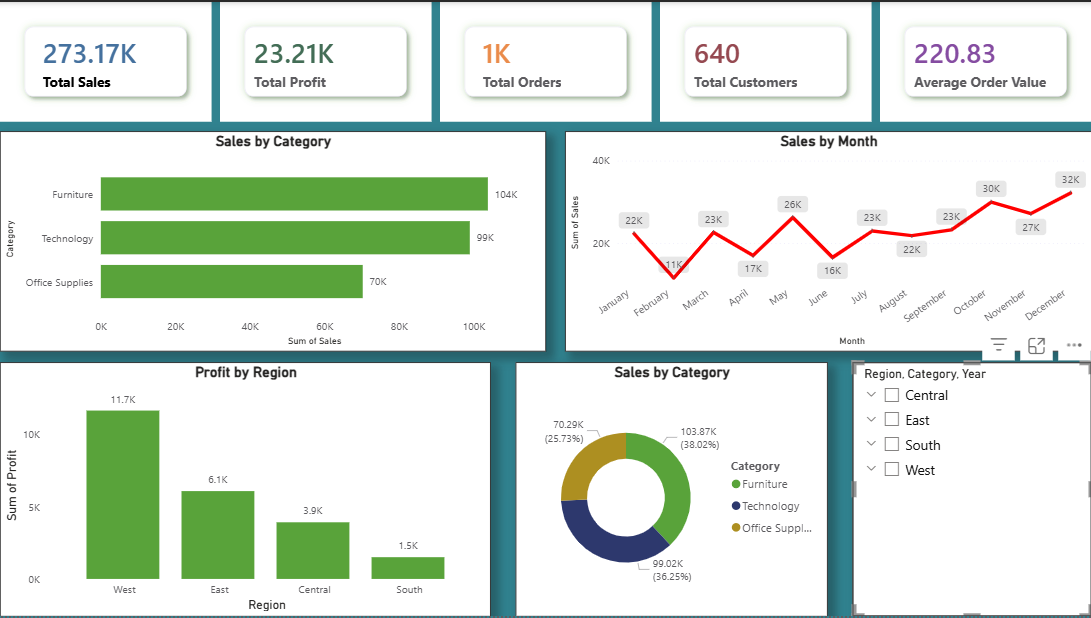

This screenshot's page, from the dashboard's own definition file:
{"tool":"powerbi","page":{"name":"Page 1","canvas":[1280,720],"ordinal":0},"visuals":[{"type":"cardVisual","fields":{"Data":["SuperStore.Total Sales"]},"box":[0,0,248.2,140.2],"z":0},{"type":"cardVisual","fields":{"Data":["SuperStore.Total Profit"]},"box":[257.9,0,248.2,140.2],"z":1000},{"type":"cardVisual","fields":{"Data":["SuperStore.Total Orders"]},"box":[515.8,0,248.2,140.2],"z":2000},{"type":"cardVisual","fields":{"Data":["SuperStore.Total Customers"]},"box":[773.6,0,248.2,140.2],"z":3000},{"type":"cardVisual","fields":{"Data":["SuperStore.Average Order Value"]},"box":[1031.5,0,248.2,140.2],"z":4000},{"type":"clusteredBarChart","title":"Sales by Category","fields":{"Category":["SuperStore.Category"],"Y":["Sum(SuperStore.Sales)"]},"box":[0,151.5,639.9,257.9],"z":5000},{"type":"lineChart","title":"Sales by Month","fields":{"Category":["SuperStore.Month"],"Y":["Sum(SuperStore.Sales)"]},"box":[662.4,151.5,617.3,257.9],"z":6000},{"type":"clusteredColumnChart","title":"Profit by Region","fields":{"Category":["SuperStore.Region"],"Y":["Sum(SuperStore.Profit)"]},"box":[0,422.3,575.4,298.2],"z":7000},{"type":"donutChart","title":"Sales by Category","fields":{"Category":["SuperStore.Category"],"Y":["Sum(SuperStore.Sales)"]},"box":[604.4,422.3,365.9,298.2],"z":8000},{"type":"slicer","fields":{"Values":["SuperStore.Region","SuperStore.Category","SuperStore.Year"]},"box":[999.3,422.3,280.4,298.2],"z":9000}]}

Visuals, with their boxes in screenshot pixels (x1, y1, x2, y2), scaled from the page's 1280x720 canvas onto the 1091x618 screenshot:
cardVisual - SuperStore.Total Sales: 0 0 212 120
cardVisual - SuperStore.Total Profit: 220 0 431 120
cardVisual - SuperStore.Total Orders: 440 0 651 120
cardVisual - SuperStore.Total Customers: 659 0 871 120
cardVisual - SuperStore.Average Order Value: 879 0 1090 120
"Sales by Category" clusteredBarChart: 0 130 545 351
"Sales by Month" lineChart: 565 130 1090 351
"Profit by Region" clusteredColumnChart: 0 362 490 617
"Sales by Category" donutChart: 515 362 827 617
slicer - SuperStore.Region x SuperStore.Category: 852 362 1090 617
